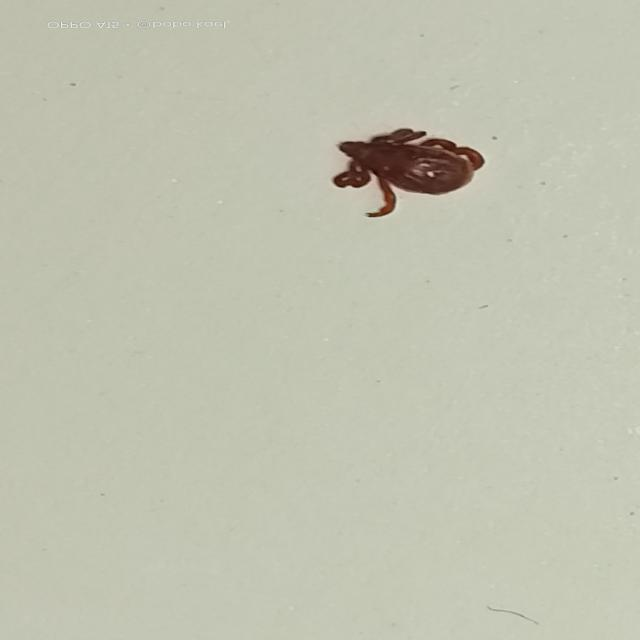Rhipicephalus Sanguineus-M: (330, 127, 487, 216)
